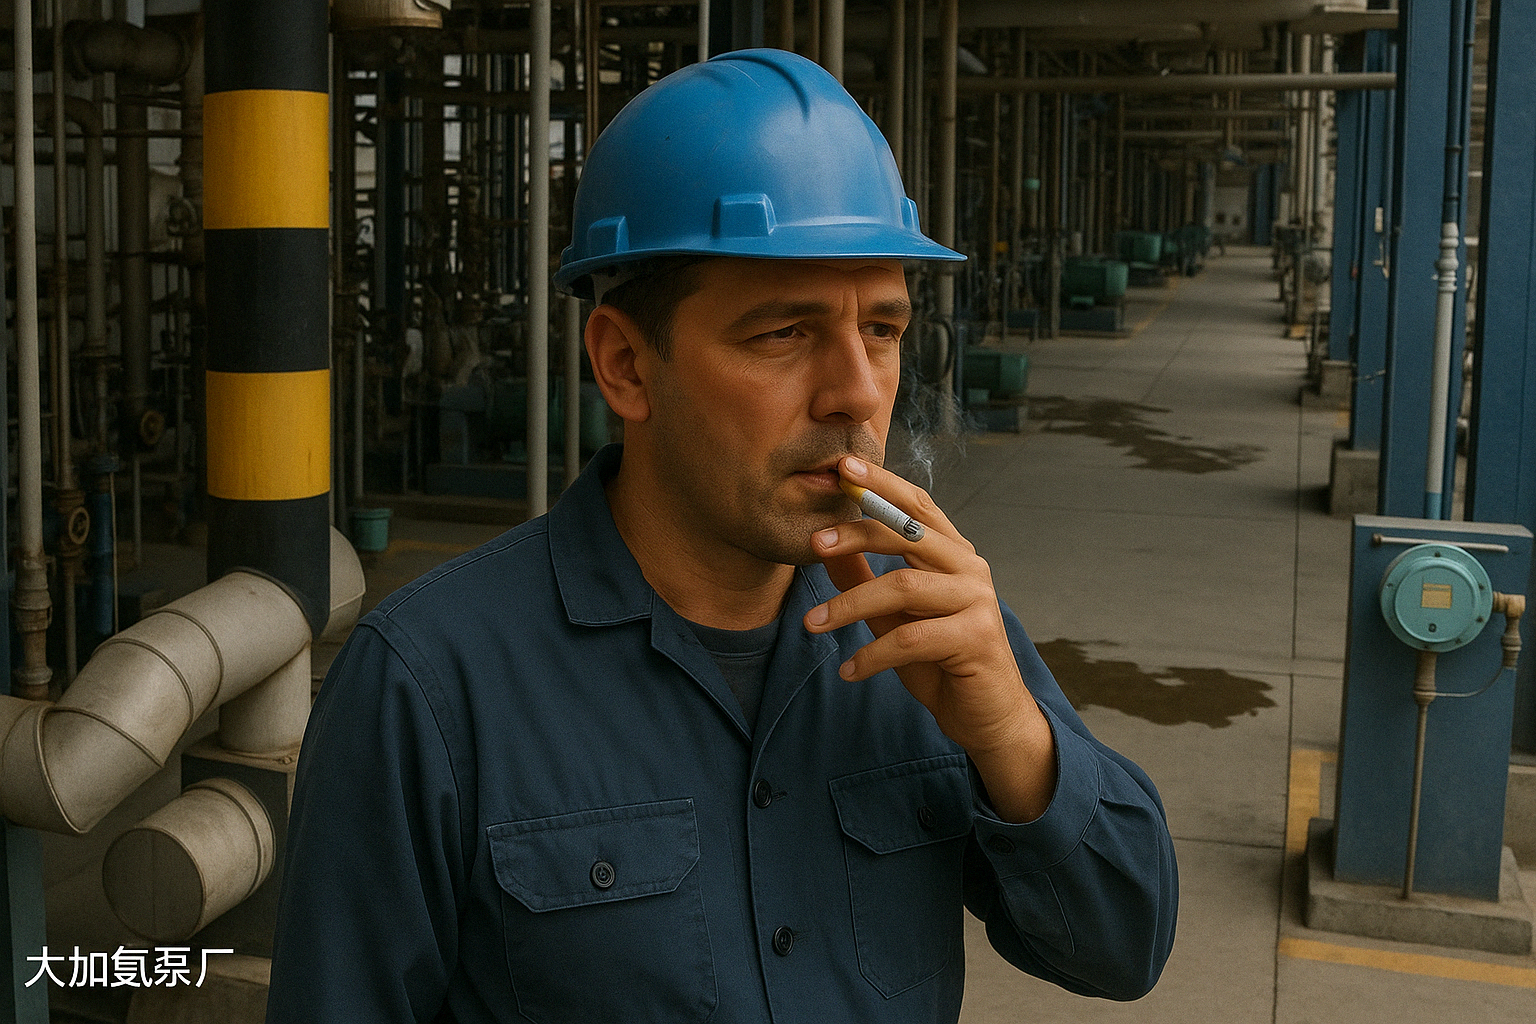smoking: (793, 434, 958, 561)
